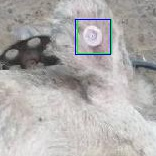text: (77, 19, 111, 53)
